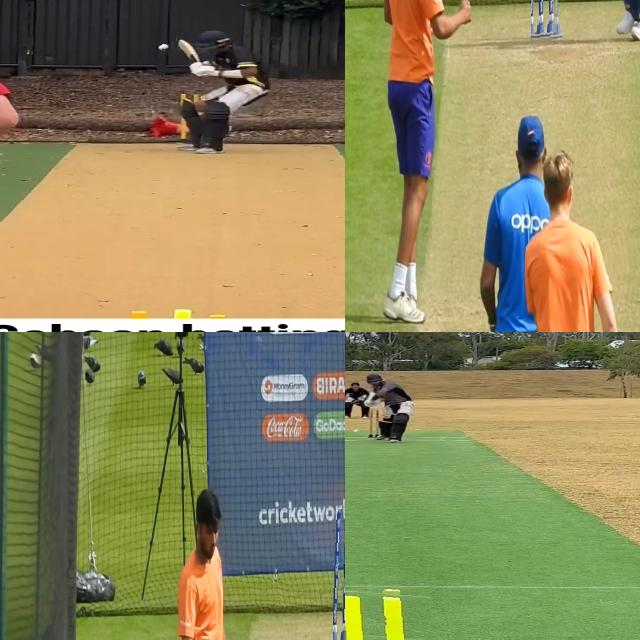Cricket ball: (158, 44, 170, 51), (352, 428, 362, 434)
Stumps: (333, 509, 345, 640), (531, 0, 563, 44)
